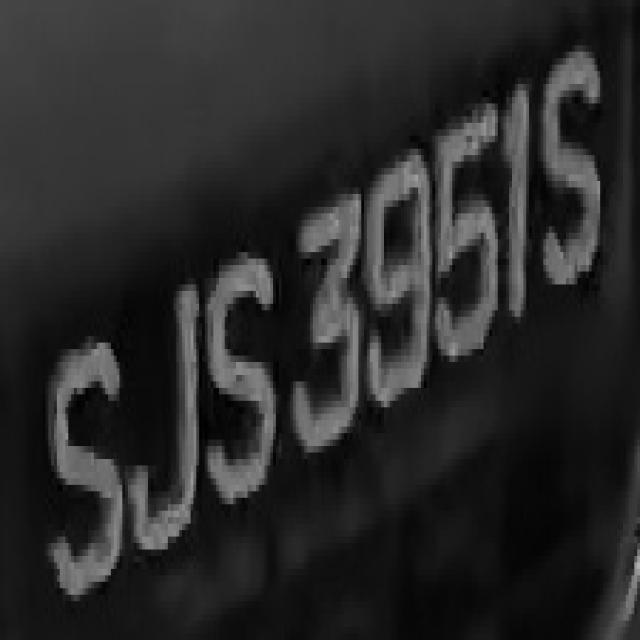1: (503, 65, 538, 342)
3: (290, 194, 364, 485)
5: (429, 97, 498, 381)
9: (361, 149, 438, 420)
J: (122, 271, 208, 556)
S: (205, 219, 290, 536), (532, 26, 617, 323), (37, 336, 125, 608)
